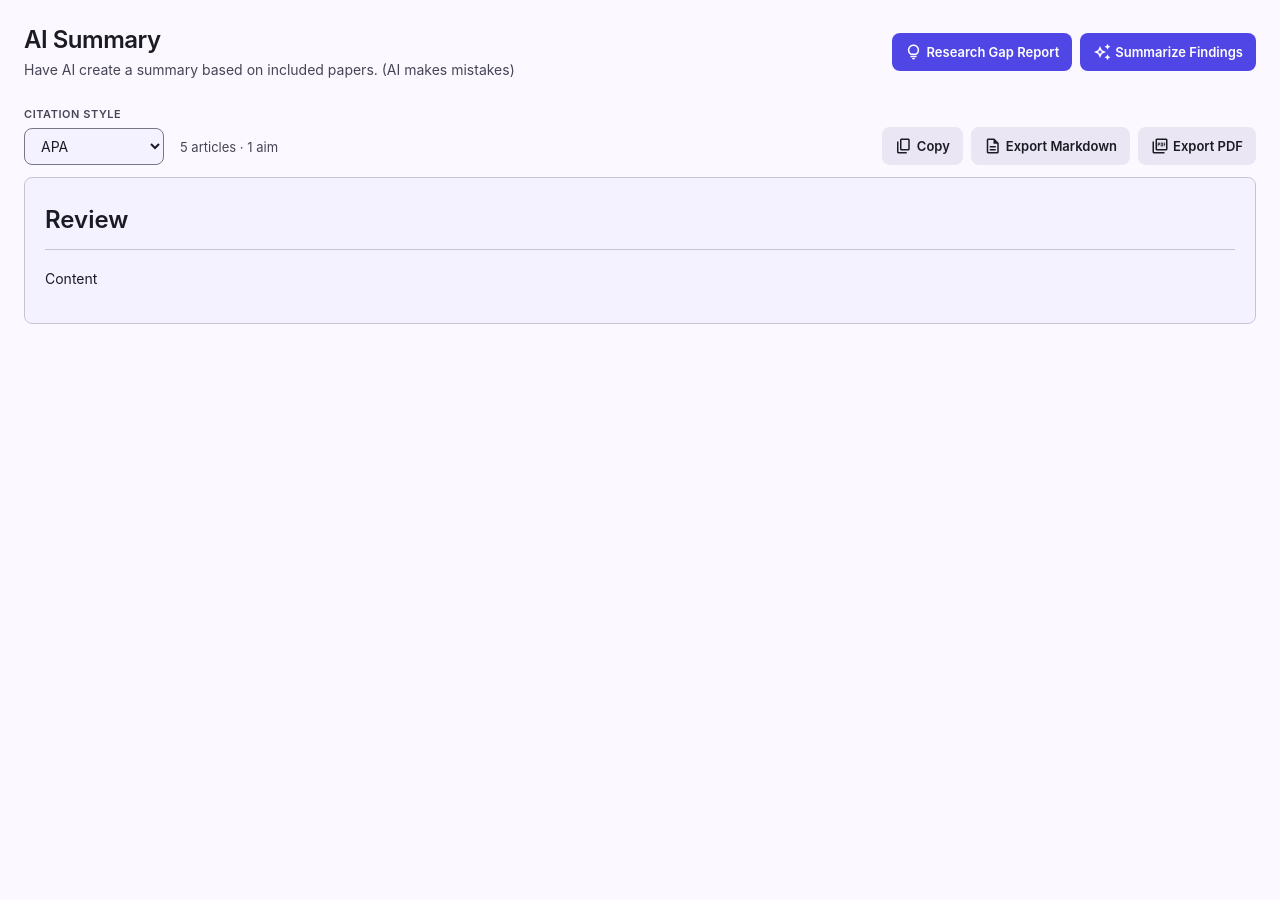
Test: summary-view.vue - two-button UX with switch-vs-regenerate dialog › switch dialog "View existing" switches mode without generating
Click the button "Research Gap Report". click: (982, 52)
box: [892, 33, 1072, 71]
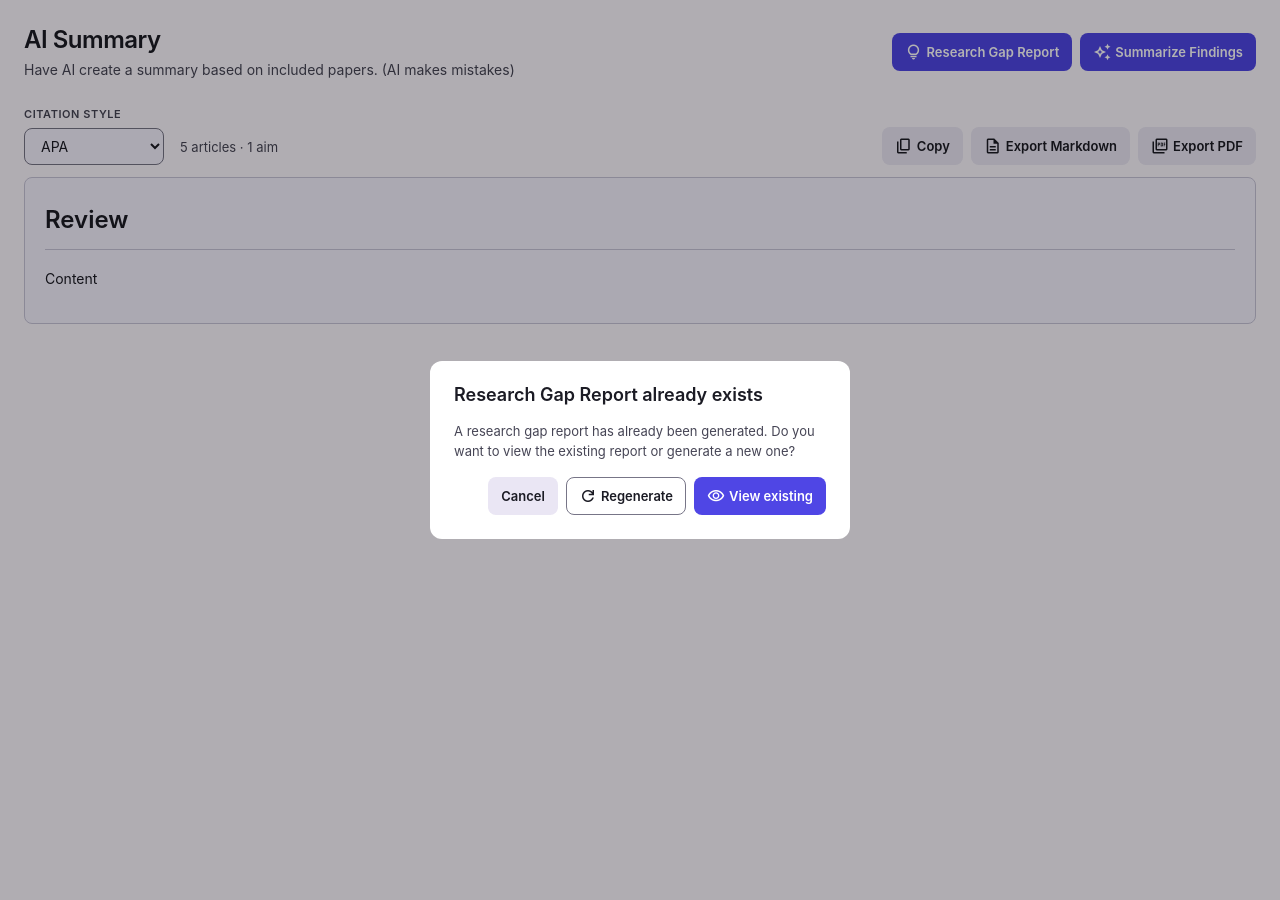
Result: the button "View existing" is shown
Click the button "View existing". click: (760, 496)
box: [694, 477, 826, 515]
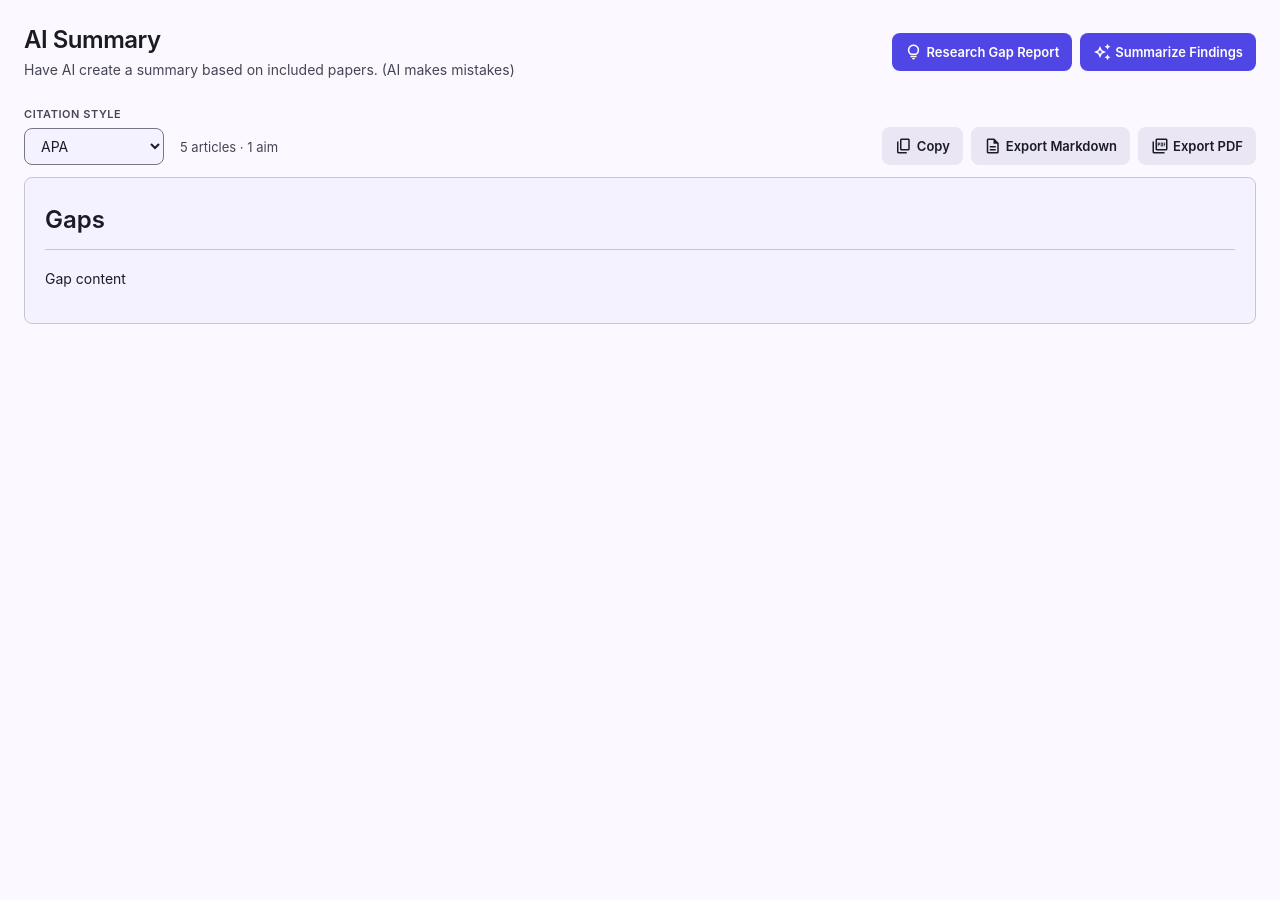
Result: the element with class "summary-view__markdown" shows "Gap content" at [45, 270, 126, 287]
